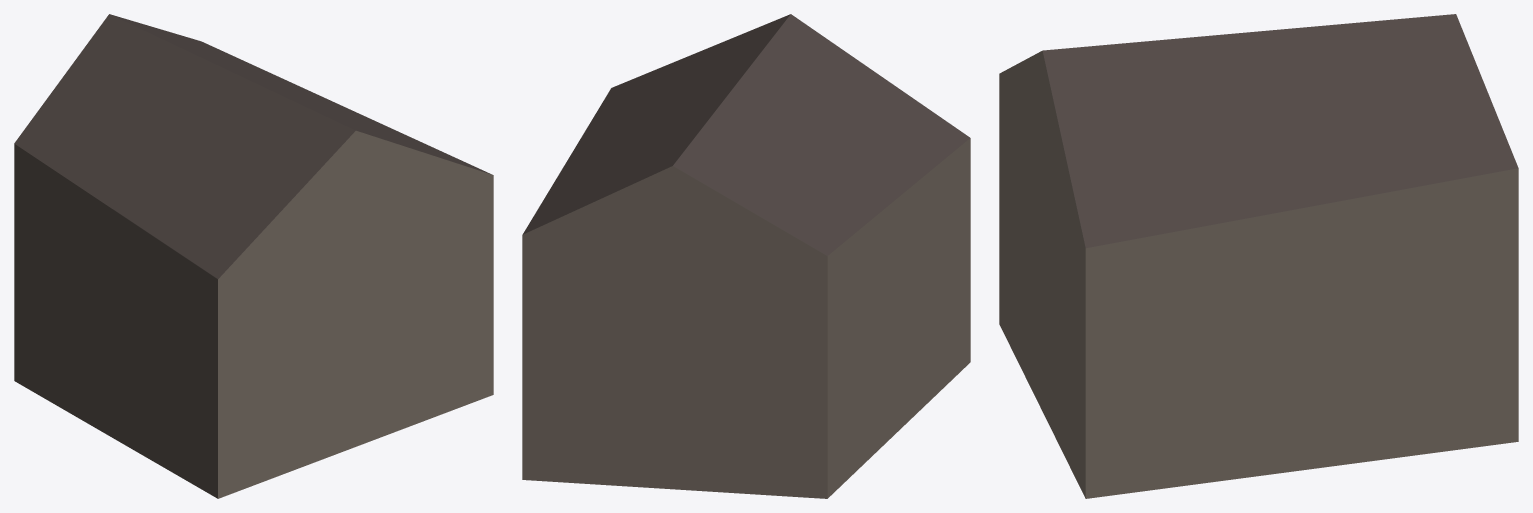
The picture shows the model from 3 angles, left to right: view 1: azimuth 30°, elevation 25°; view 2: azimuth 150°, elevation 25°; view 3: azimuth 270°, elevation 25°; orthographic projection. The views are drawn at different scales.
Parts seen in each view (by area): view 1: HP-w1515071158; view 2: HP-w1515071158; view 3: HP-w1515071158.
Part boxes in pixels (x1,y1,x2,y2): HP-w1515071158: [14, 14, 493, 498]; HP-w1515071158: [522, 14, 970, 498]; HP-w1515071158: [999, 14, 1518, 498].
Size of the model in its own units: 9.88 by 8.64 by 11.26.
